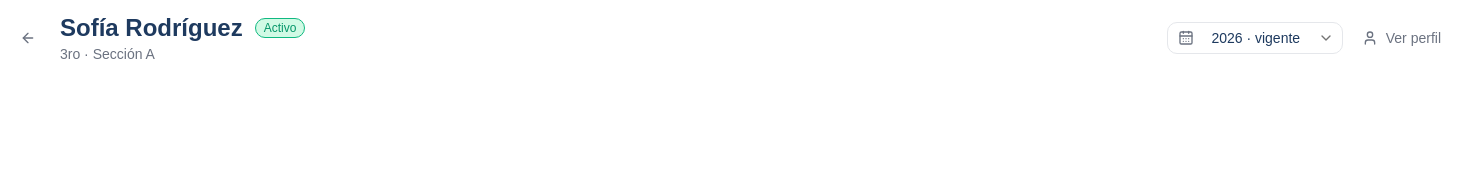
ExpedienteHeader — selector de periodo › etiqueta cada periodo segun se pueda editar o no
Click the dropdown named "periodo del expediente". click: (1255, 38)
box: top-left (1167, 22), bottom-right (1343, 54)
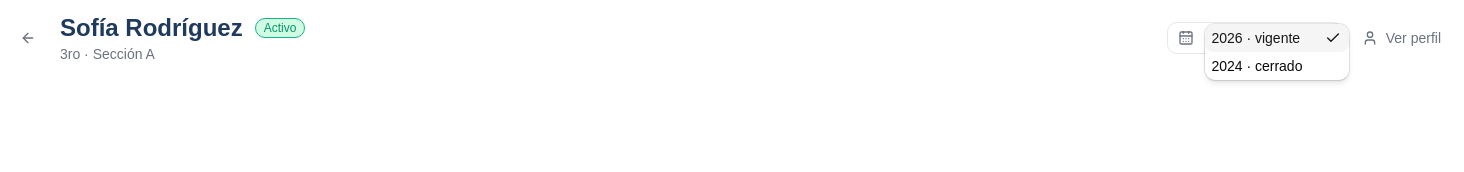
Expected: the option "2026 · vigente" is shown, top-left (1205, 24), bottom-right (1349, 52)
Expected: the option "2024 · cerrado" is shown, top-left (1211, 58), bottom-right (1302, 74)
